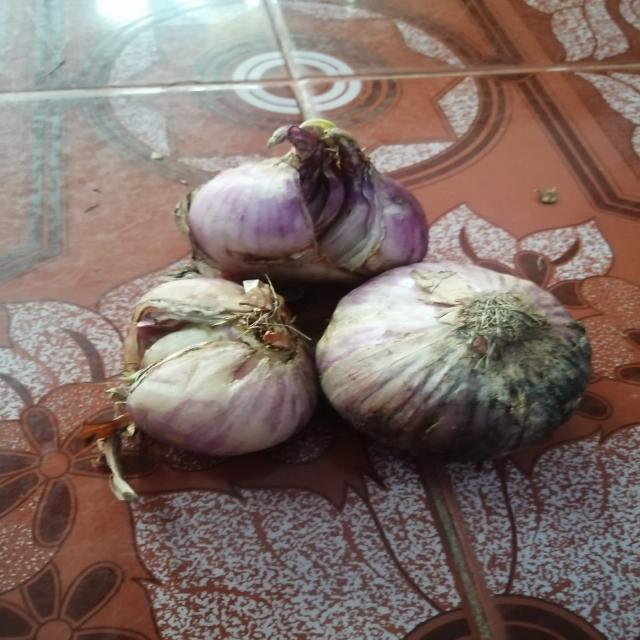rotten: (473, 336, 577, 434), (126, 312, 245, 369), (313, 182, 367, 254)
sprouting: (278, 127, 361, 165)
